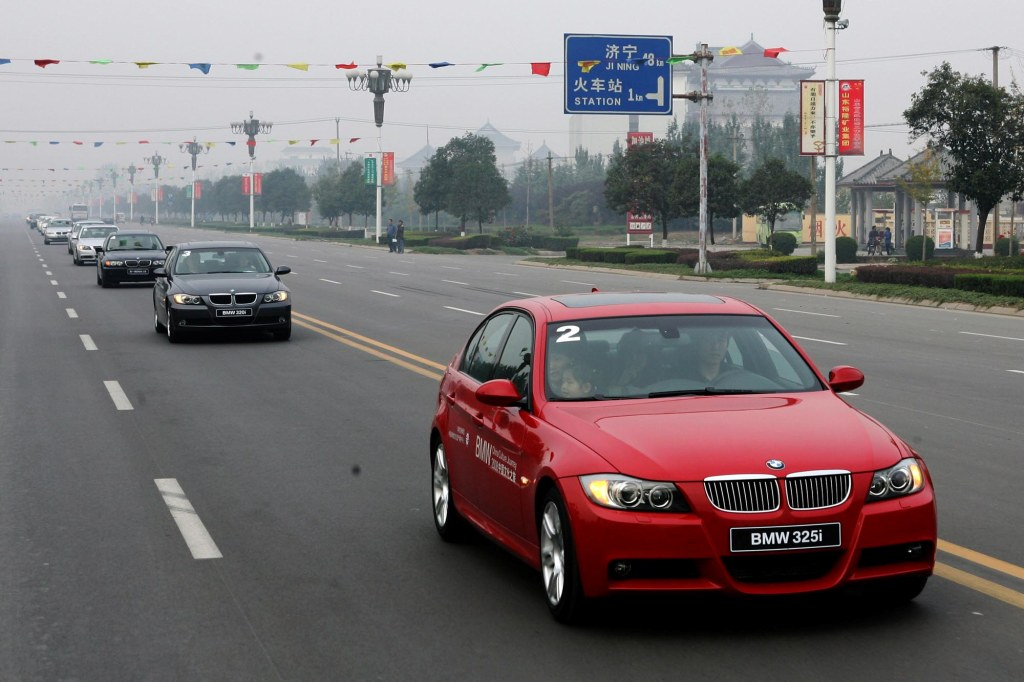car: (419, 281, 940, 622), (158, 231, 290, 352), (99, 236, 158, 291)
